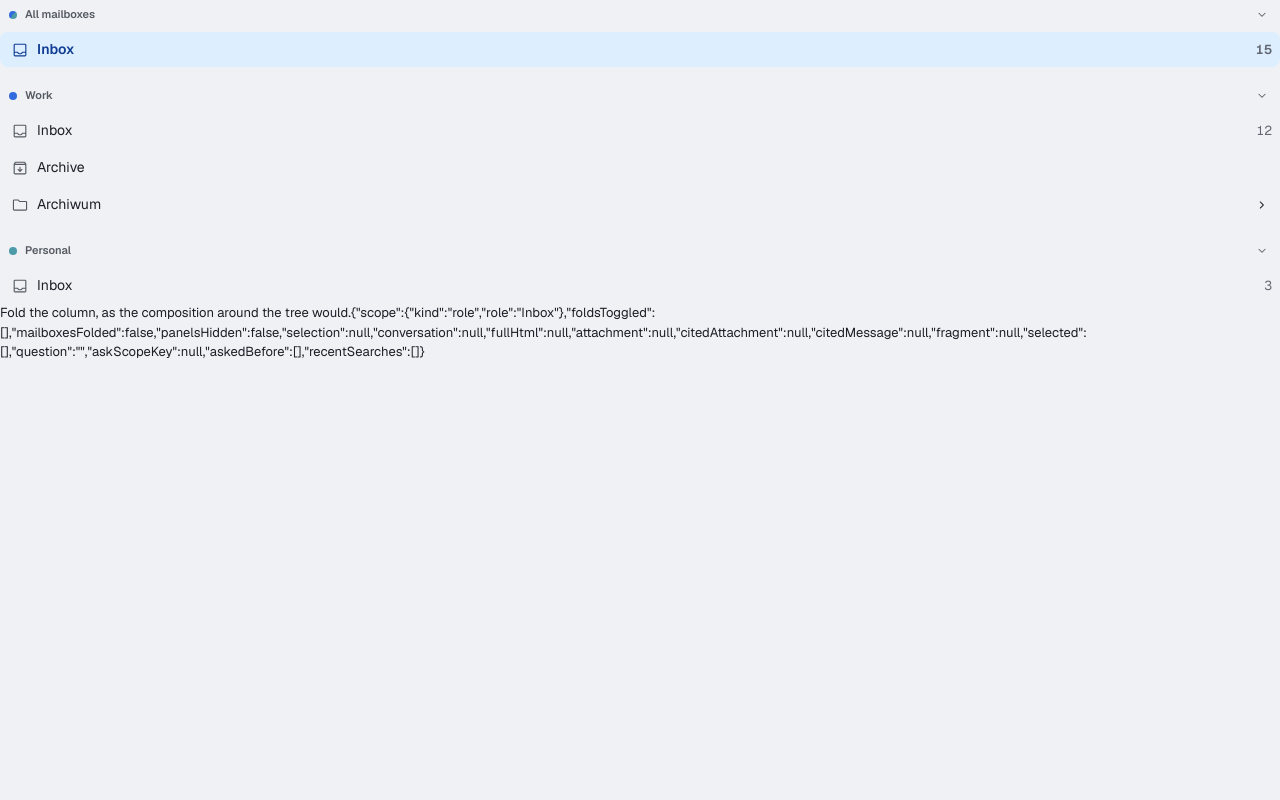
Test case: FolderTree › opens a folder row’s menu from the keyboard with ContextMenu
This screenshot has width=1280, height=800.
Right-click the list item "Work" at {"x": 13, "y": 96}, box [9, 88, 1270, 104]
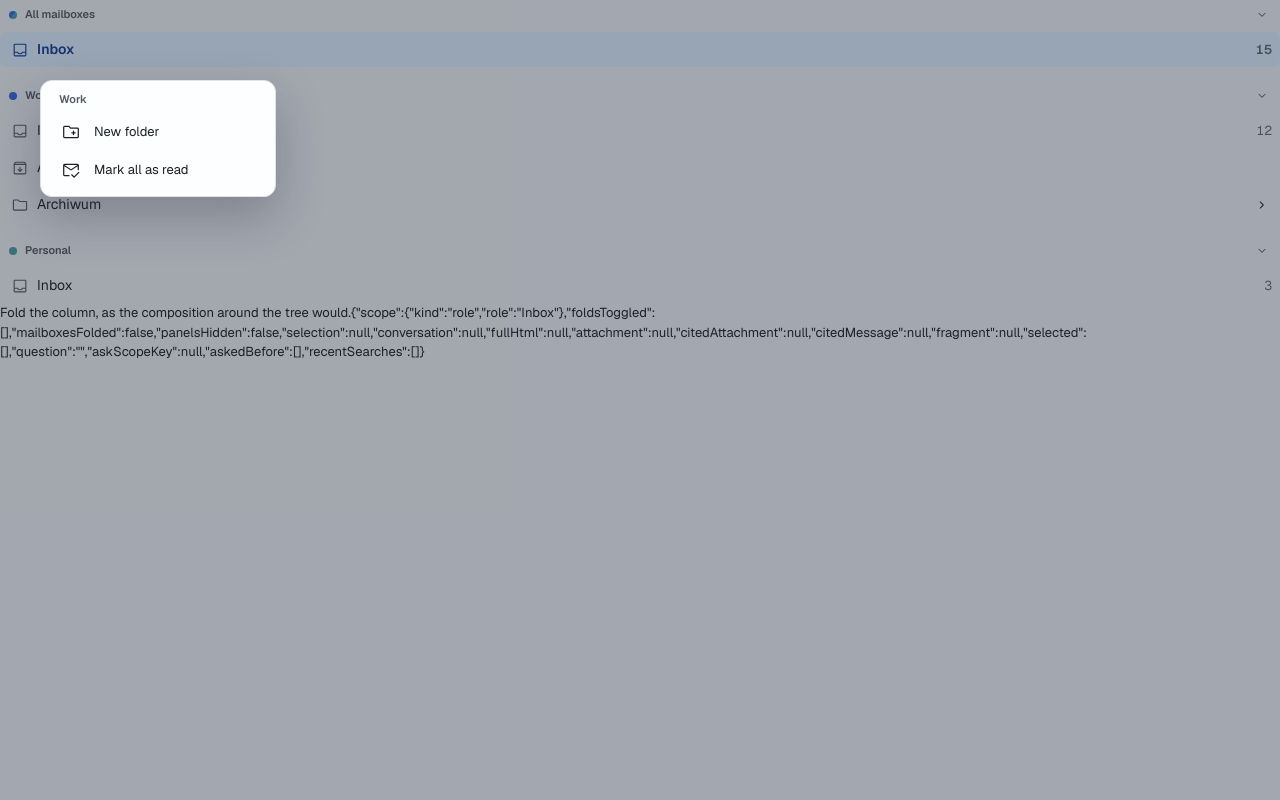
Now the text "New folder" is shown, box [94, 122, 159, 142]
Press Escape in the menu item "New folder", box [47, 114, 269, 150]
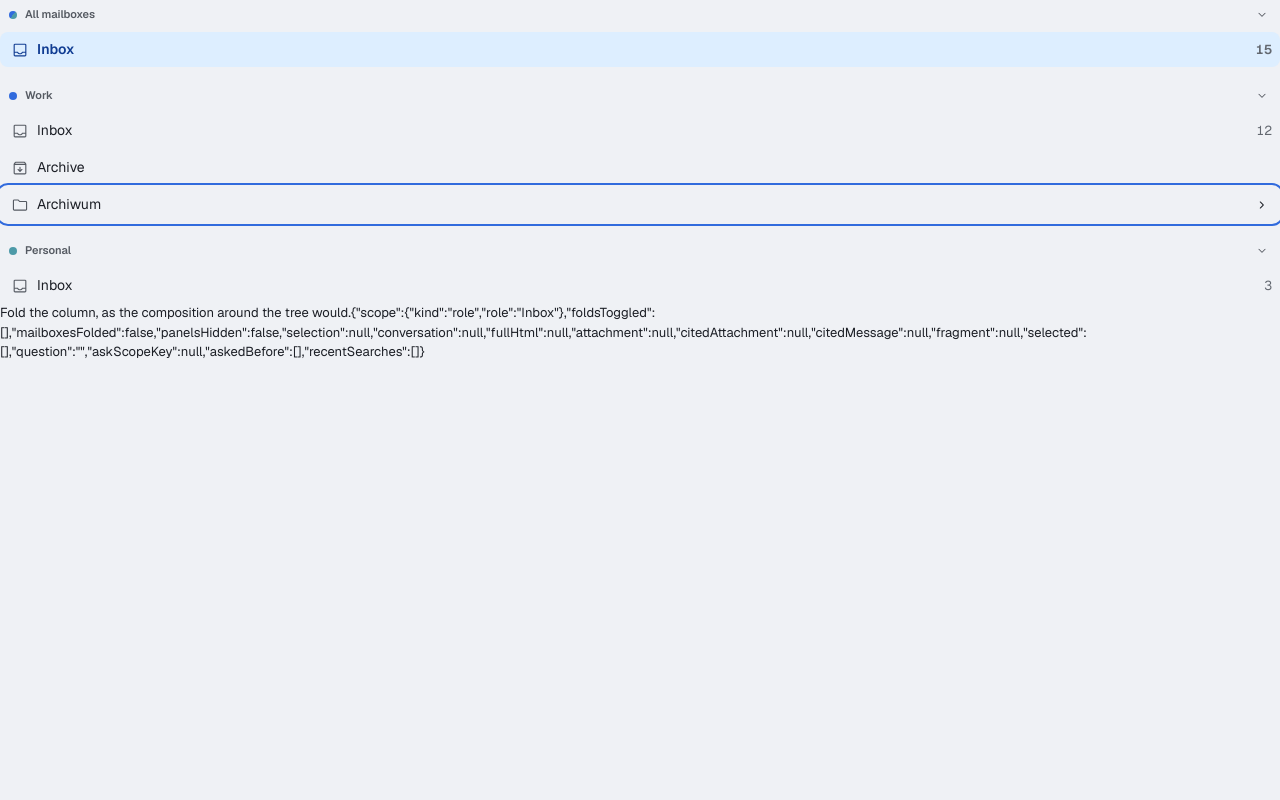
Press ContextMenu in the list item "Archiwum", box [11, 195, 1270, 214]
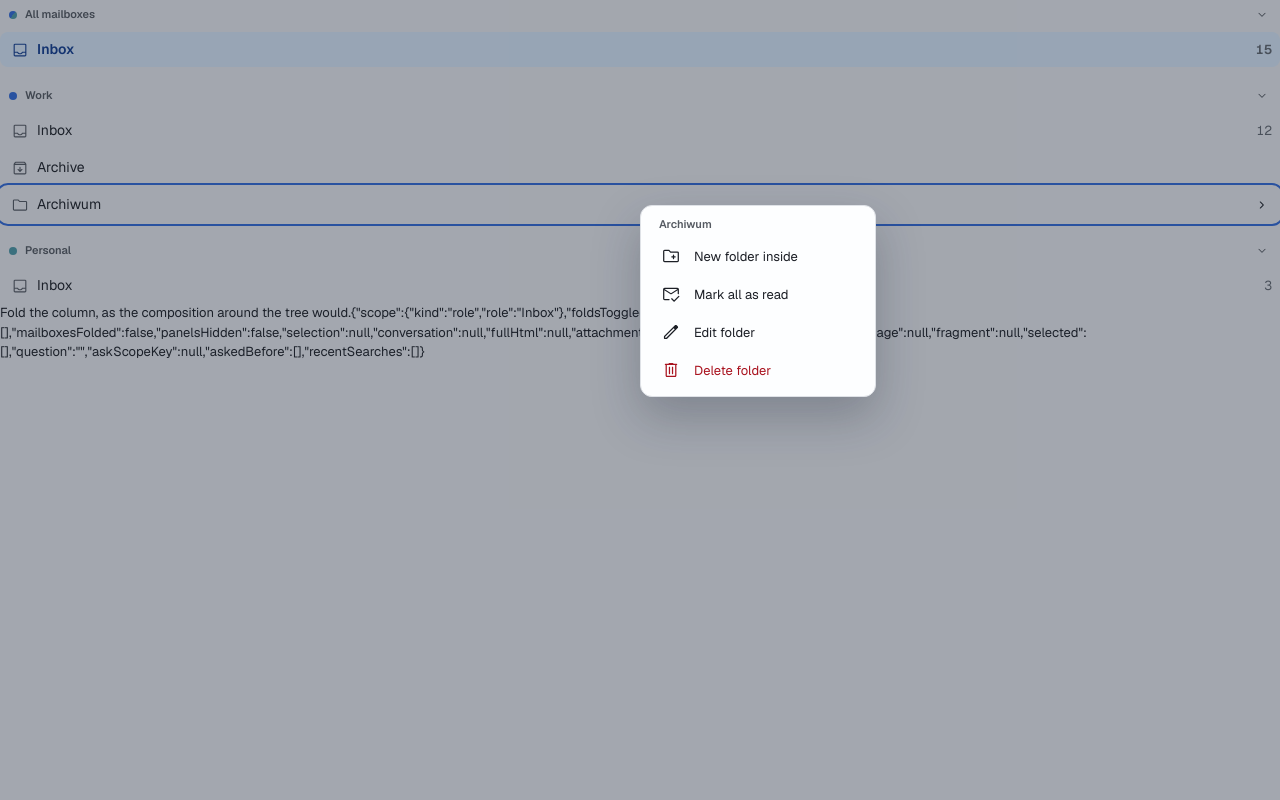
Now the menu items read "New folder inside", "Mark all as read", "Edit folder", "Delete folder", in this order, box [647, 238, 869, 274]; [647, 276, 869, 312]; [647, 314, 869, 350]; [647, 352, 869, 388]
